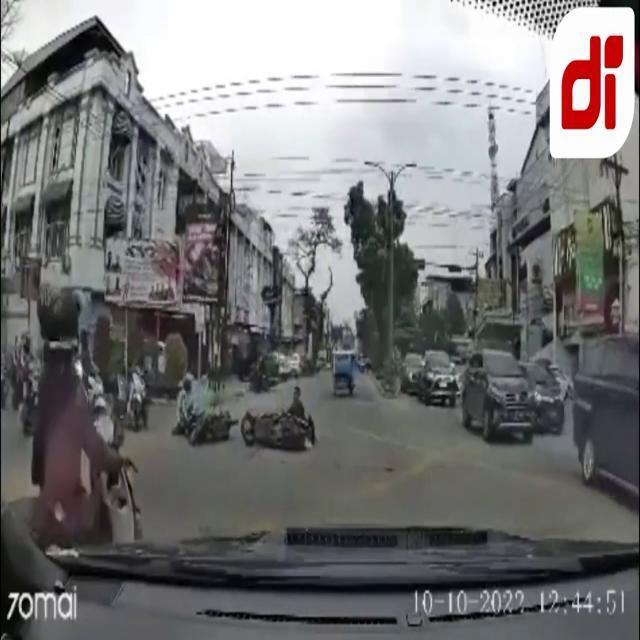accident: (176, 410, 316, 452), (241, 411, 315, 452), (176, 410, 238, 446)
non-accident: (462, 348, 564, 444), (399, 344, 459, 404)
